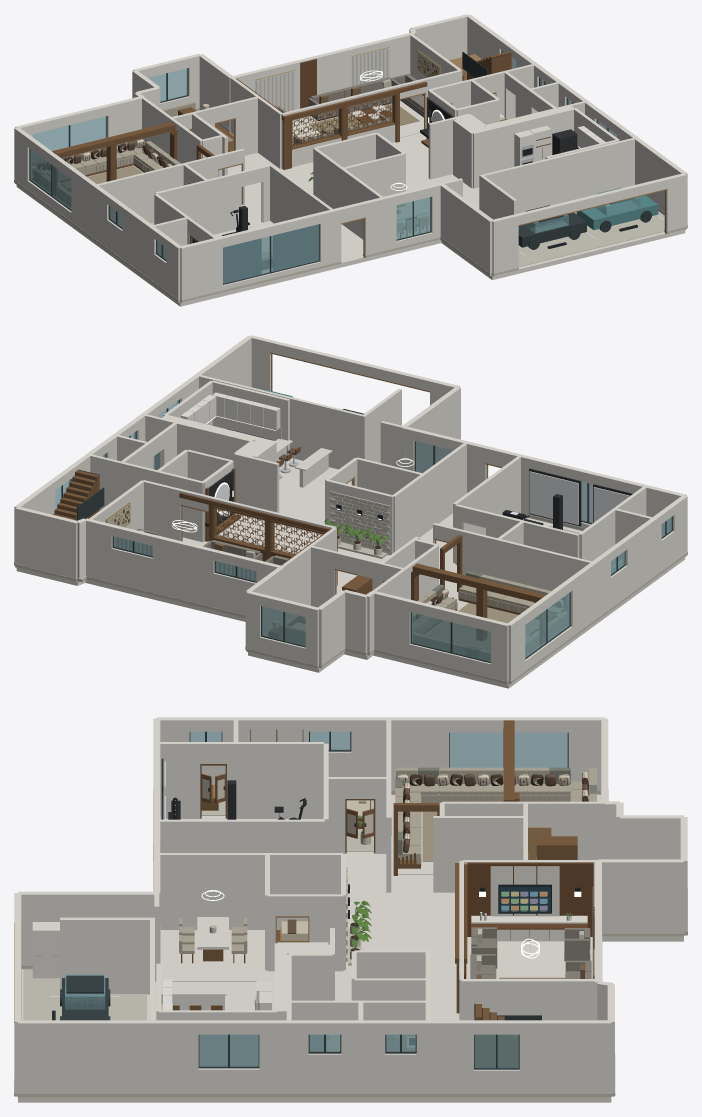
File: villa.glb
3 renders of one model, top to bottom at view 1: azimuth 30°, elevation 25°; view 2: azimuth 150°, elevation 25°; view 3: azimuth 270°, elevation 25°, orthographic. The views are drawn at different scales.
Parts seen in each view (by area): view 1: Continuous villa foundation, Garage north, South west glass, Gym north wall west of sole entrance, Garage west, Salon south pier, Kitchen north, Floor | Garage, Central spine, South west pier, West spa pier.001, Bedroom north east return (+68 smaller); view 2: Continuous villa foundation, Salon south pier, Central spine, Stair north, Cinema north pier.001, Salon north glass, Bathroom B south, Garage west, Salon north, Garage north, West spa pier.001, Garage south vehicle opening lintel (+64 smaller); view 3: Continuous villa foundation, Central spine, Garage east, East stair pier, Gym west pier, Bedroom east, Garage west parking partition, Cinema east, Salon east, Garage west, Vestibule east, Salon west glass (+65 smaller).
Part boxes in pixels (x1,y1,x2,y2): Continuous villa foundation: [16, 132, 685, 306]; Garage north: [517, 137, 635, 213]; South west glass: [223, 224, 318, 283]; Gym north wall west of sole entrance: [154, 172, 241, 234]; Garage west: [439, 183, 492, 276]; Salon south pier: [95, 155, 217, 225]; Kitchen north: [473, 108, 574, 188]; Floor | Garage: [518, 212, 664, 267]; Central spine: [313, 148, 384, 239]; South west pier: [180, 236, 222, 303]; West spa pier.001: [122, 206, 158, 284]; Bedroom north east return: [230, 77, 281, 168]; Continuous villa foundation: [16, 458, 685, 688]; Salon south pier: [461, 530, 593, 590]; Central spine: [393, 442, 467, 552]; Stair north: [15, 506, 78, 581]; Cinema north pier.001: [153, 535, 215, 610]; Salon north glass: [411, 612, 490, 661]; Bathroom B south: [143, 414, 253, 469]; Garage west: [402, 386, 460, 472]; Salon north: [372, 591, 412, 660]; Garage north: [198, 374, 325, 460]; West spa pier.001: [623, 514, 661, 598]; Garage south vehicle opening lintel: [270, 340, 432, 391]; Continuous villa foundation: [18, 795, 683, 1102]; Central spine: [156, 853, 343, 929]; Garage east: [18, 1020, 153, 1098]; East stair pier: [519, 1020, 611, 1098]; Gym west pier: [227, 742, 323, 818]; Bedroom east: [598, 859, 683, 937]; Garage west parking partition: [60, 917, 149, 994]; Cinema east: [461, 979, 598, 1020]; Salon east: [442, 801, 604, 859]; Garage west: [18, 891, 156, 969]; Vestibule east: [433, 816, 512, 892]; Salon west glass: [449, 732, 567, 774].
Bounding box in the file's own units: 26.33 × 3.25 × 24.48.
